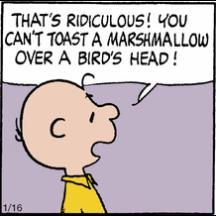charlie: (13, 71, 121, 215)
